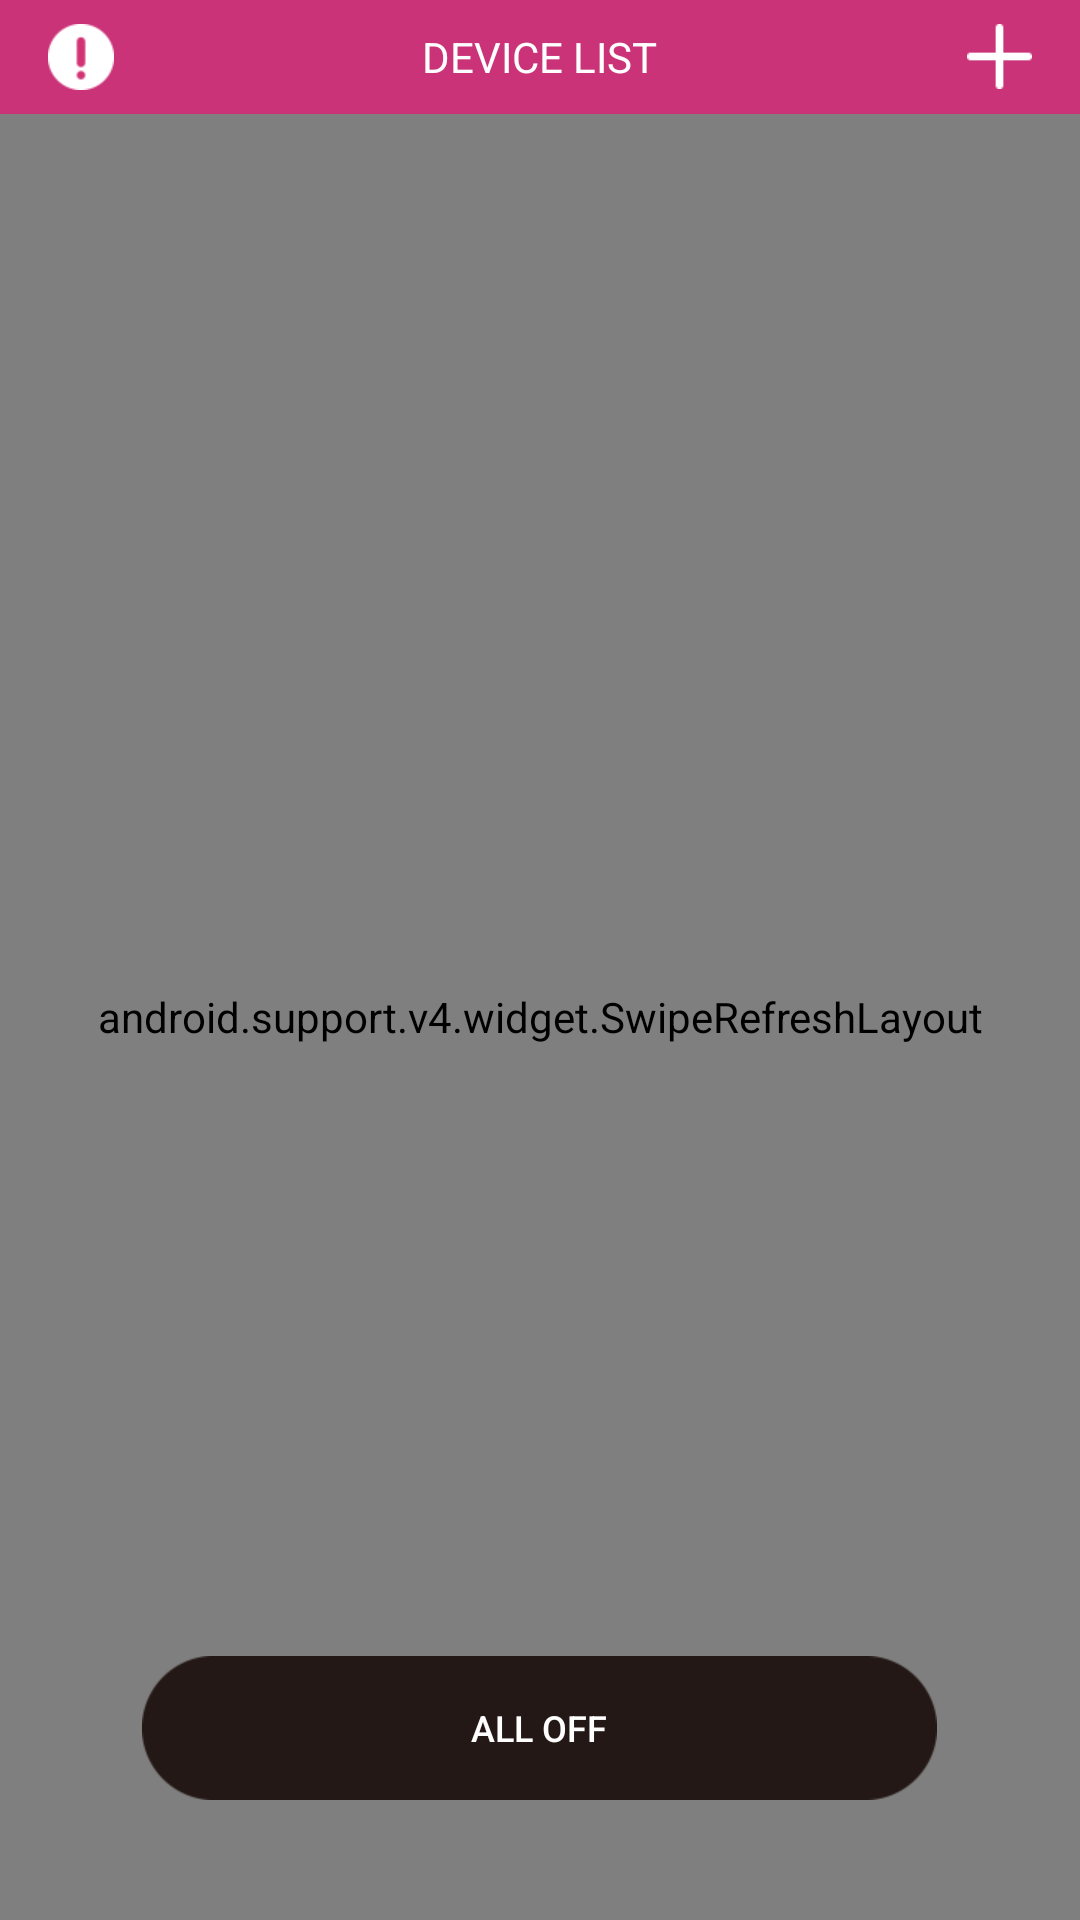

Icons on this 1080px x 1920px Android screen, each with the point to tap as point (x, y):
add: point (999, 56)
